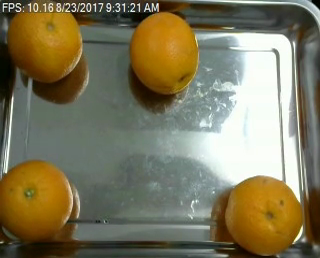Orange: (224, 172, 304, 254), (6, 1, 83, 83), (1, 159, 73, 239), (131, 10, 199, 94)
